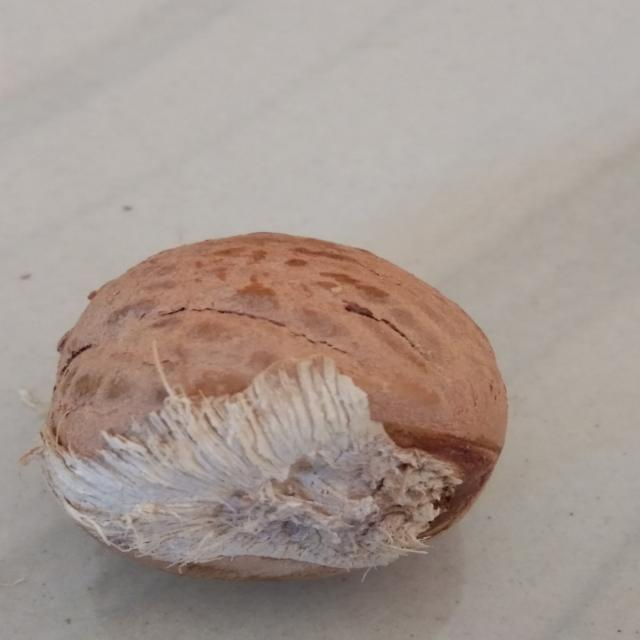karigot: (10, 213, 520, 632)
